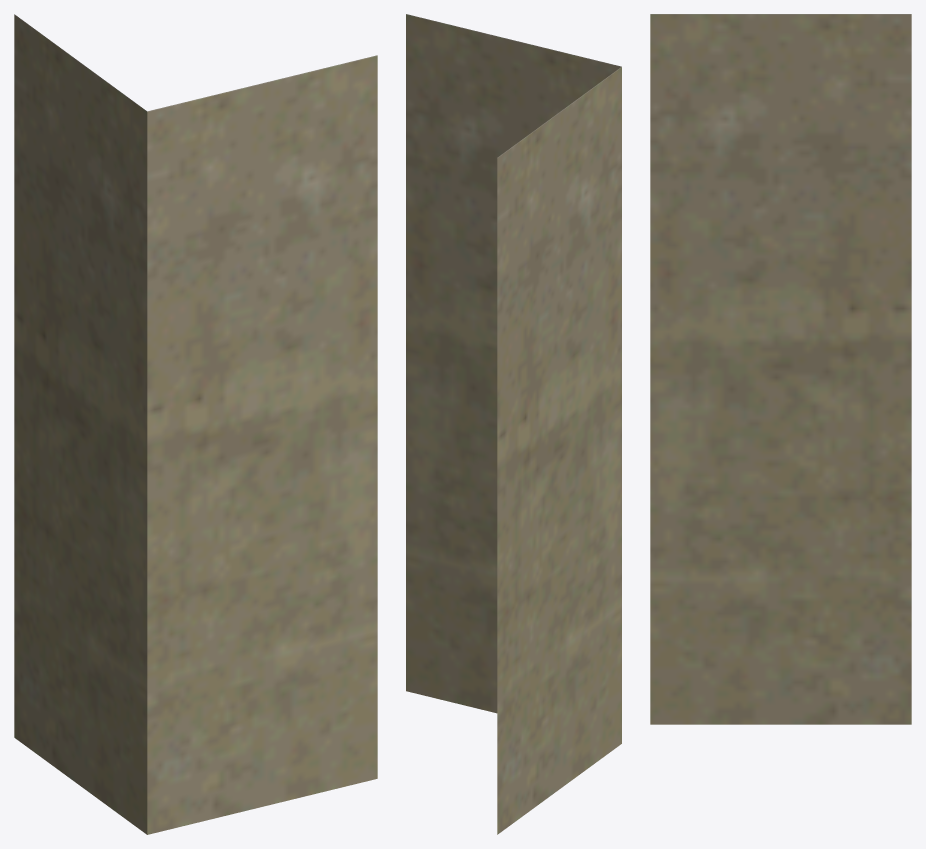
Rendered from Urban_StucoWallCorner_Model.fbx.
3 renders of one model, left to right at view 1: azimuth 30°, elevation 25°; view 2: azimuth 150°, elevation 25°; view 3: azimuth 270°, elevation 25°, orthographic. The views are drawn at different scales.
Visible parts, largest first — view 1: Urban_StucoWallCorner_Mesh; view 2: Urban_StucoWallCorner_Mesh; view 3: Urban_StucoWallCorner_Mesh.
Part boxes in pixels (<box>): Urban_StucoWallCorner_Mesh: <box>14,14,377,834</box>; Urban_StucoWallCorner_Mesh: <box>406,14,621,834</box>; Urban_StucoWallCorner_Mesh: <box>650,14,911,724</box>.
Size of the model in its own units: 0.7 by 2.1 by 0.7.
